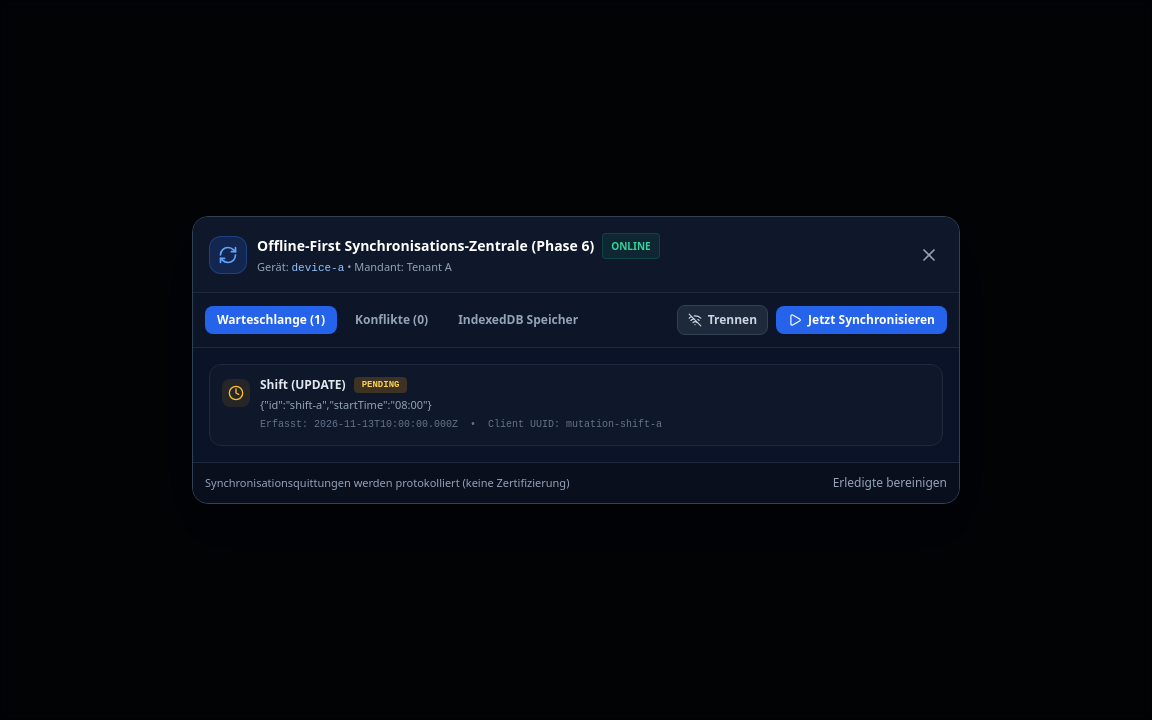
Test: SyncManagerModal shift conflict snapshots › reports rejected manual synchronization and releases the pending button
The image size is (1152, 720).
What coordinates should you click on to do the following:
click the button "Jetzt Synchronisieren"
I would click on:
 (862, 320)
Its box is [776,306,947,334].
Wait 650 ms
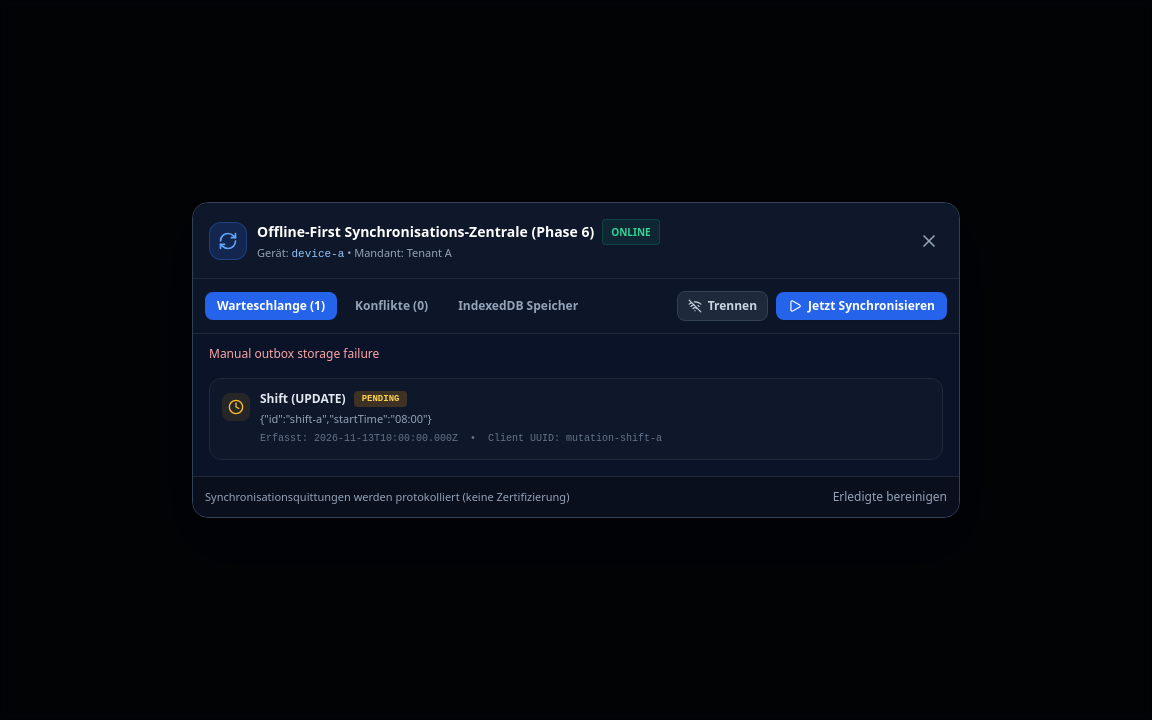
Check: the button "Jetzt Synchronisieren" is enabled, box [776,292,947,320]
Check: the message "Manual outbox storage failure" is shown, box [209,345,379,362]
